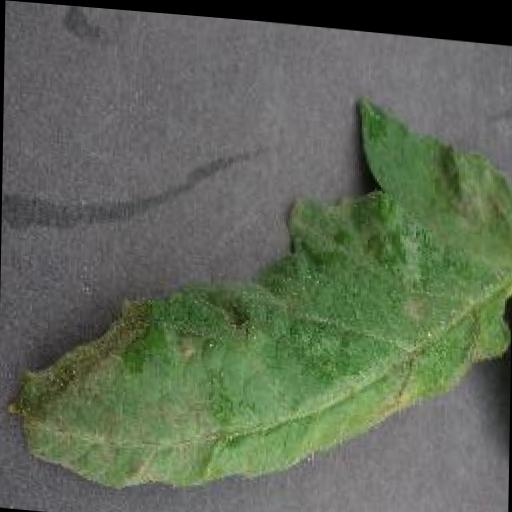Late Blight: (1, 65, 512, 512)
